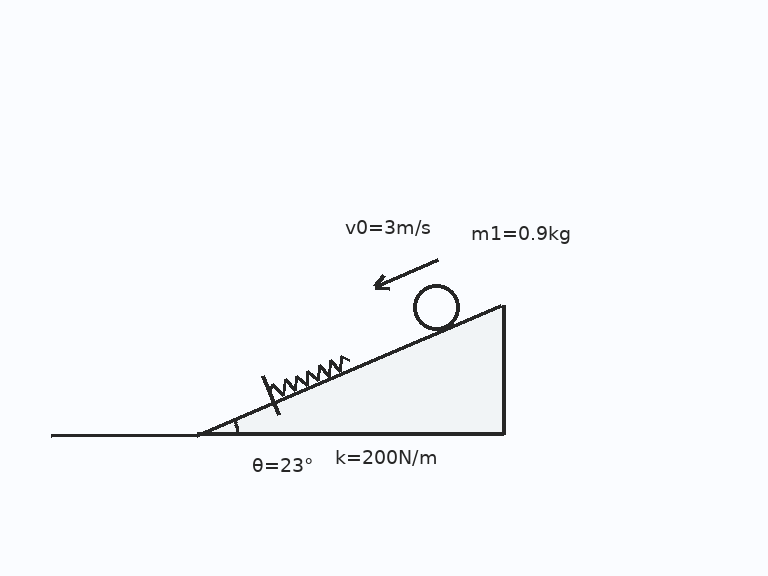ball: (411, 282, 461, 332)
ramp: (195, 302, 505, 436)
spring: (268, 354, 351, 397)
